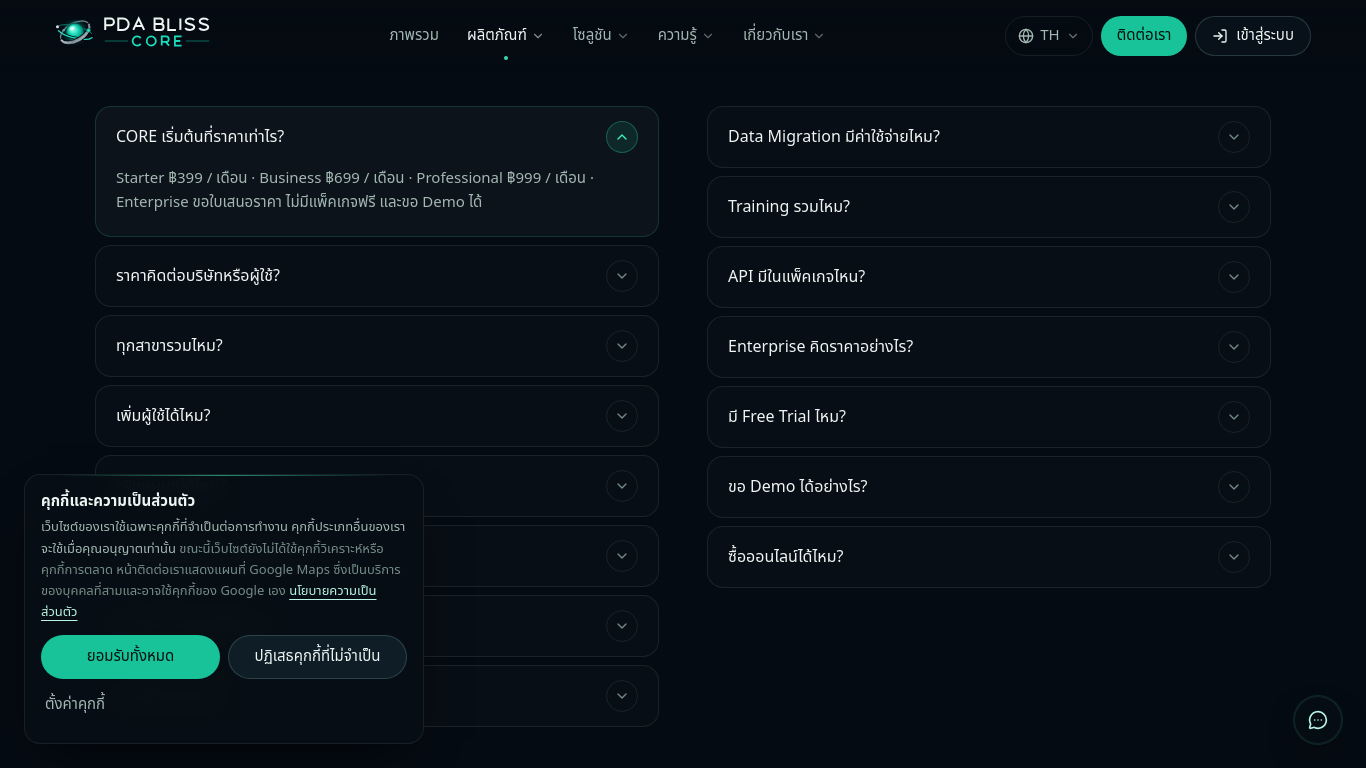
Test: disclosures › shows the open state on the icon, not only in the text
(page scrolled)
What coordinates should you click on to do the following:
click the button with id "faq-q-1"
I would click on:
 (198, 276)
Its box is [96,246,658,306].
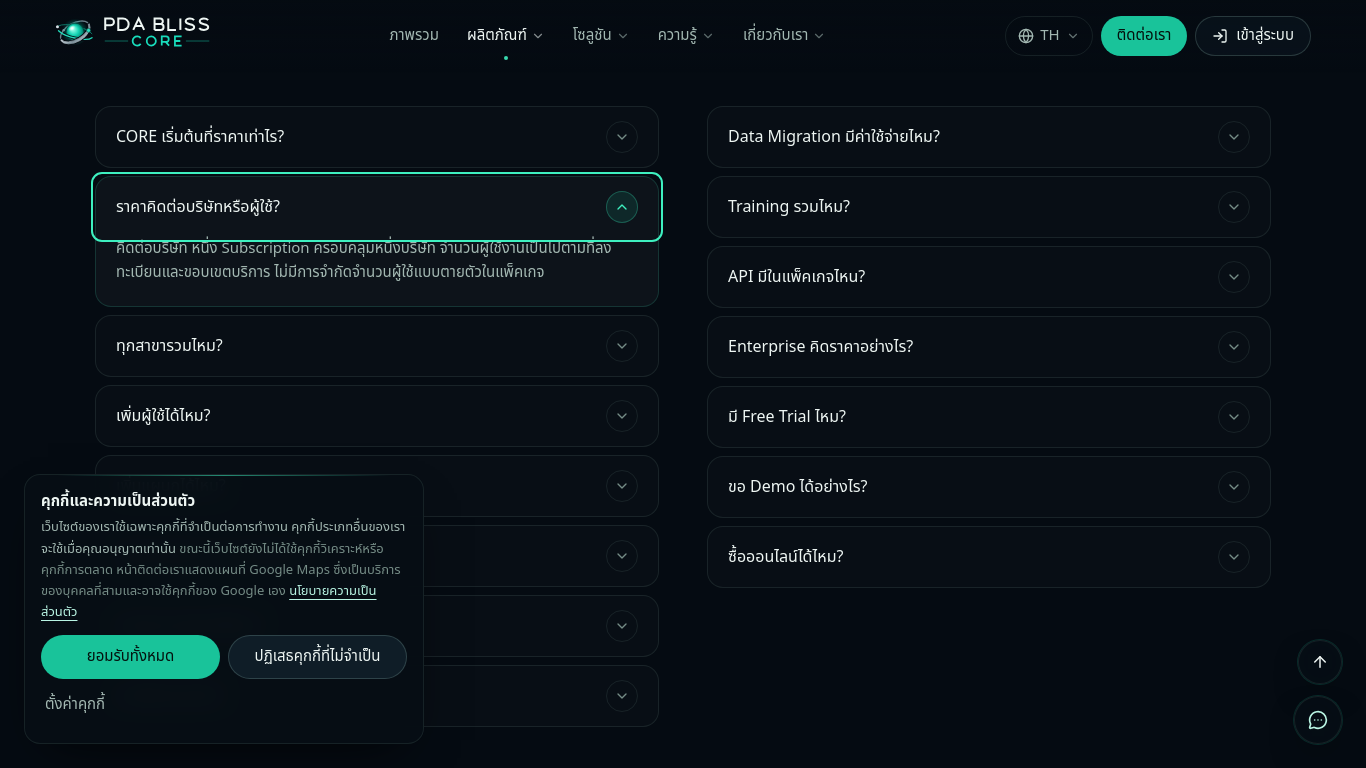
Check: the button with id "faq-q-1" is expanded, box [96,177,658,237]
